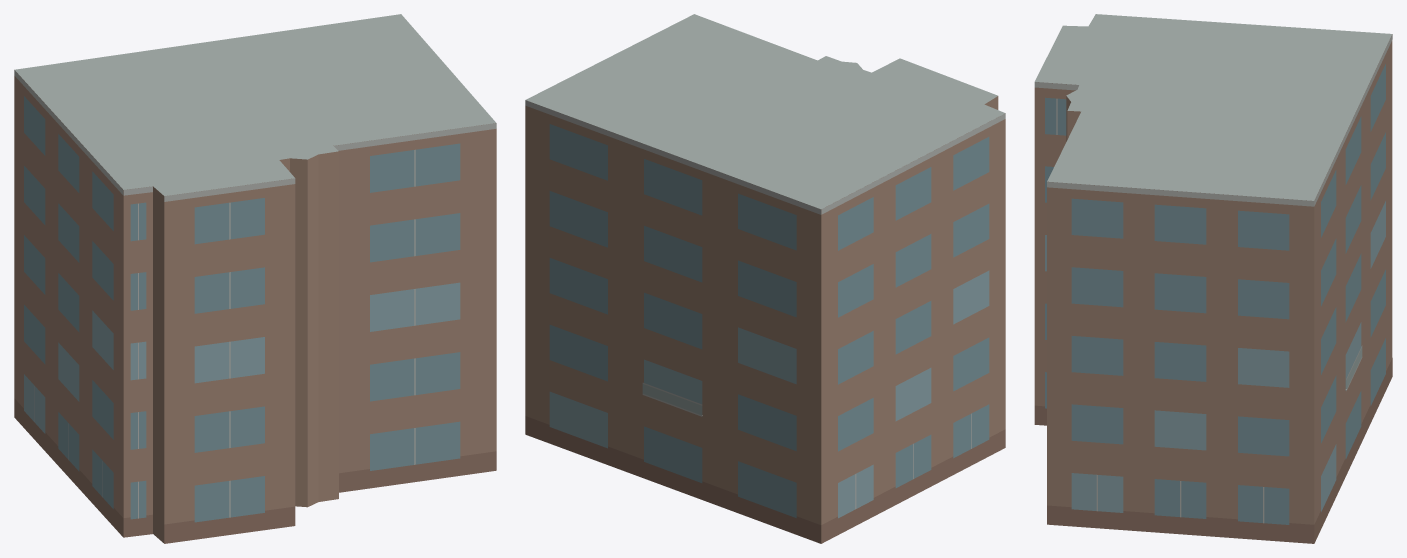
File: survey-upis-32525066.glb
3 views of the same model, side by side, from view 1: azimuth 30°, elevation 25°; view 2: azimuth 150°, elevation 25°; view 3: azimuth 270°, elevation 25° (orthographic). The views are drawn at different scales.
Visible parts, largest first — view 1: survey-upis-32525066.tmp; view 2: survey-upis-32525066.tmp; view 3: survey-upis-32525066.tmp.
Boxes of the visible parts, left/top/right/bottom form: survey-upis-32525066.tmp: left=14, top=14, right=496, bottom=543; survey-upis-32525066.tmp: left=525, top=14, right=1005, bottom=543; survey-upis-32525066.tmp: left=1034, top=14, right=1392, bottom=543.
Size of the model in its own units: 17.14 by 14.65 by 13.87.
